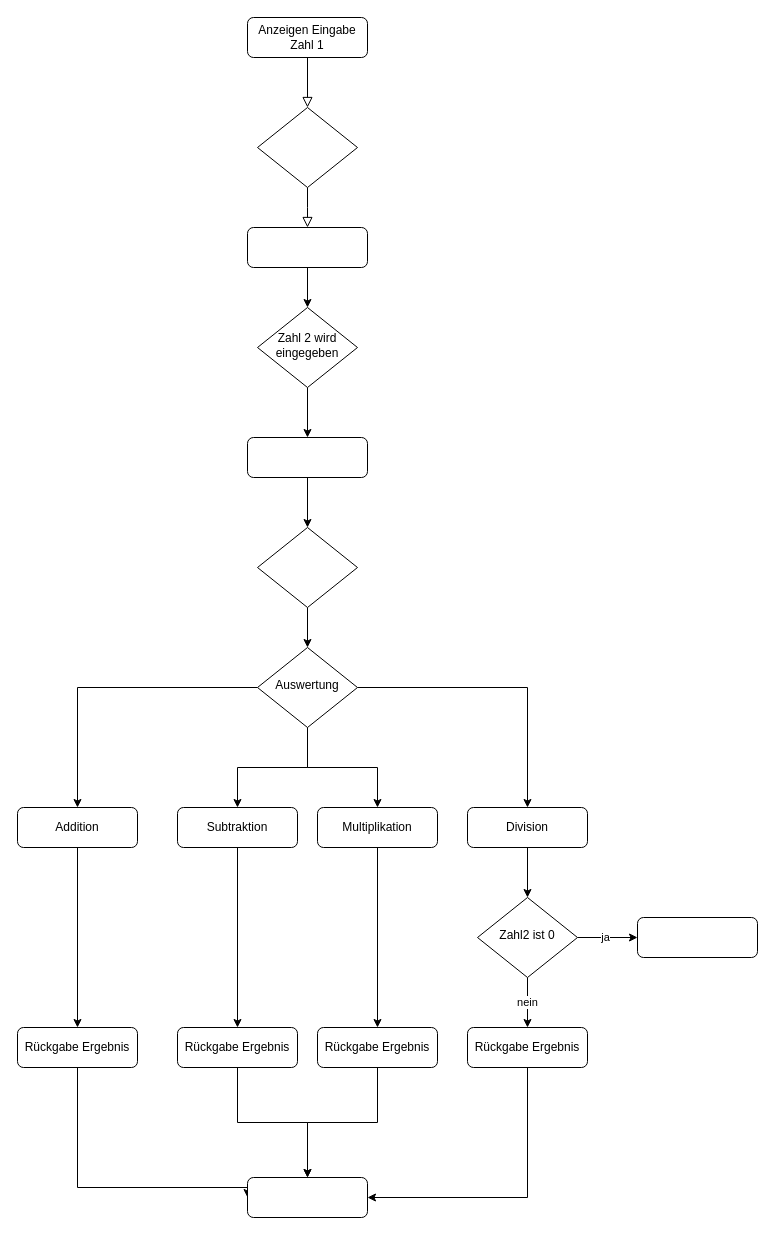
This 775x1235 diagram has some shape labels left out. Here are the shapes that lost their labels. From the top down, the centre of each, then its label:
At (x=307, y=147): "Zahl 1 wird eingegeben".
At (x=307, y=247): "Anzeigen Eingabe Zahl 2".
At (x=307, y=457): "Anzeigen Eingabe Operation".
At (x=307, y=567): "Operation wird eingegeben".
At (x=697, y=937): "Rückgabe 0".
At (x=307, y=1197): "Ende".
